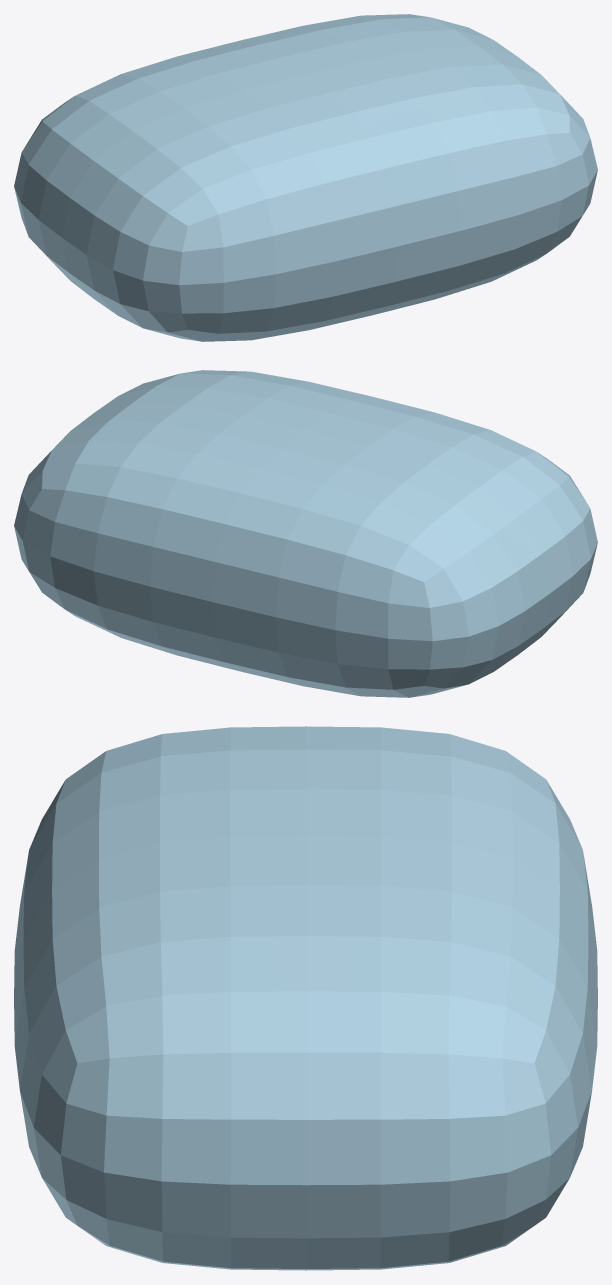
File: soap 1.fbx
3 renders of one model, top to bottom at view 1: azimuth 30°, elevation 25°; view 2: azimuth 150°, elevation 25°; view 3: azimuth 270°, elevation 25°, orthographic. The views are drawn at different scales.
Visible parts, largest first — view 1: Cube.015; view 2: Cube.015; view 3: Cube.015.
Boxes of the visible parts, box(x1,y1,x2,y2) form: Cube.015: box(14, 14, 597, 341); Cube.015: box(14, 370, 597, 697); Cube.015: box(14, 726, 597, 1270).
Bounding box in the file's own units: 0.4765 × 0.315 × 0.1933.
1 material, 1 textured.
